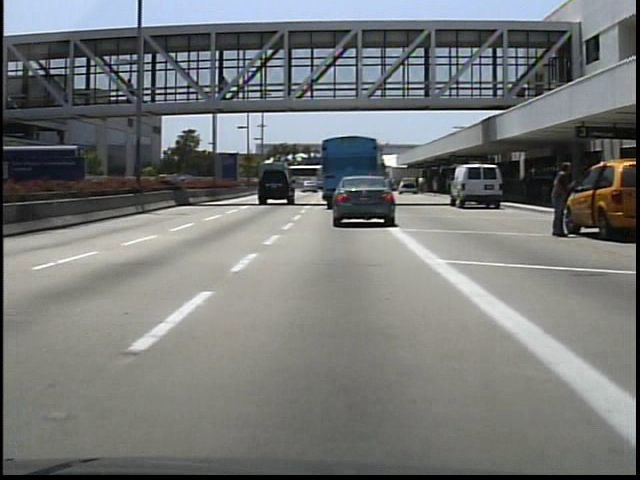person: (547, 156, 576, 240), (518, 165, 539, 206), (218, 74, 235, 108), (124, 76, 140, 104)
